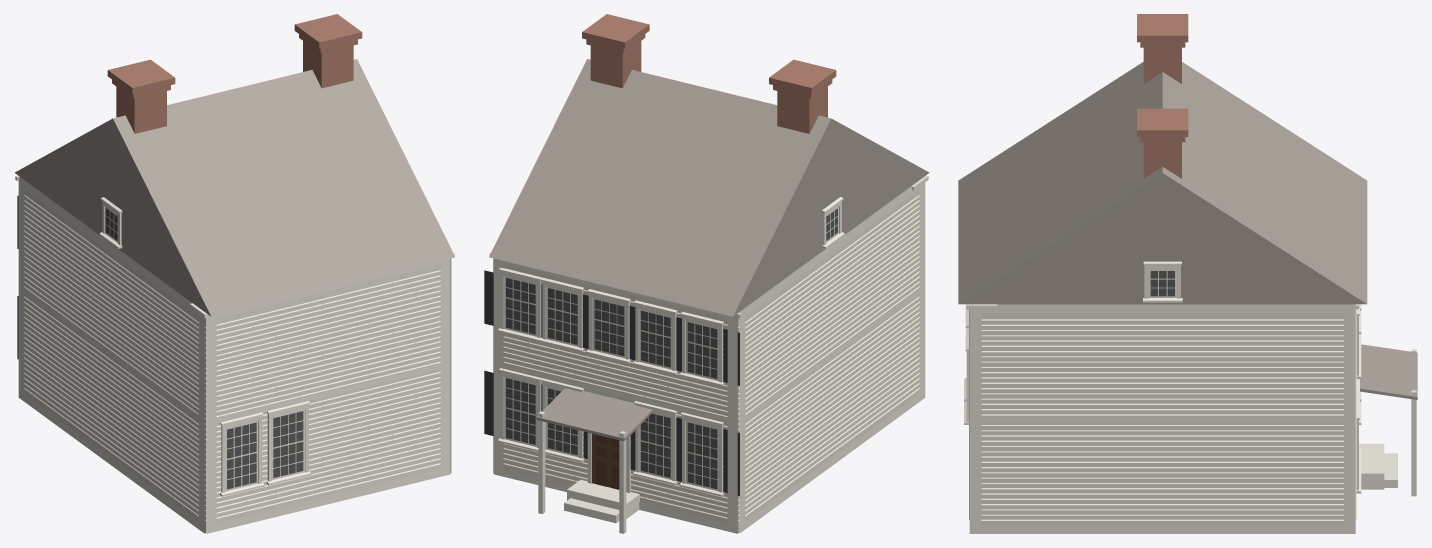
The model's file is recon_1835_blk_school_section_tier_119_d7_07__inferred_1835.glb.
The picture shows the model from 3 angles, left to right: view 1: azimuth 30°, elevation 25°; view 2: azimuth 150°, elevation 25°; view 3: azimuth 270°, elevation 25°; orthographic projection. The views are drawn at different scales.
Parts seen in each view (by area): view 1: recon_1835_blk_school_section_tier_119_d7_07__inferred_1835; view 2: recon_1835_blk_school_section_tier_119_d7_07__inferred_1835; view 3: recon_1835_blk_school_section_tier_119_d7_07__inferred_1835.
Part boxes in pixels (x1,y1,x2,y2): recon_1835_blk_school_section_tier_119_d7_07__inferred_1835: (15, 14, 454, 533); recon_1835_blk_school_section_tier_119_d7_07__inferred_1835: (484, 14, 929, 533); recon_1835_blk_school_section_tier_119_d7_07__inferred_1835: (958, 14, 1417, 533).
Size of the model in its own units: 6.74 by 9.62 by 10.02.
